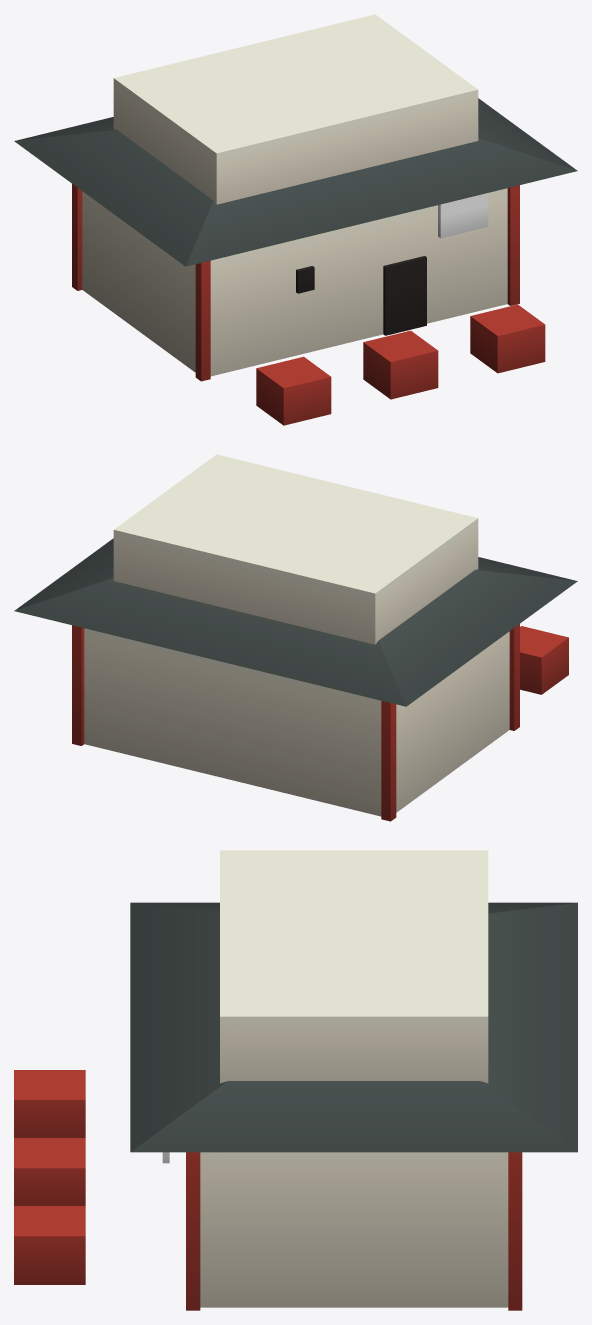
The model's file is INN_EA.glb.
3 views of the same model, one above another, from view 1: azimuth 30°, elevation 25°; view 2: azimuth 150°, elevation 25°; view 3: azimuth 270°, elevation 25° (orthographic). The views are drawn at different scales.
Visible parts, largest first — view 1: Body; view 2: Body; view 3: Body.
Part boxes in pixels (x1,y1,x2,y2): Body: (14, 14, 577, 425); Body: (14, 454, 577, 821); Body: (14, 850, 577, 1310).
Size of the model in its own units: 3.3 by 1.7 by 3.15.
Materials: 1 (1 with a texture image).
